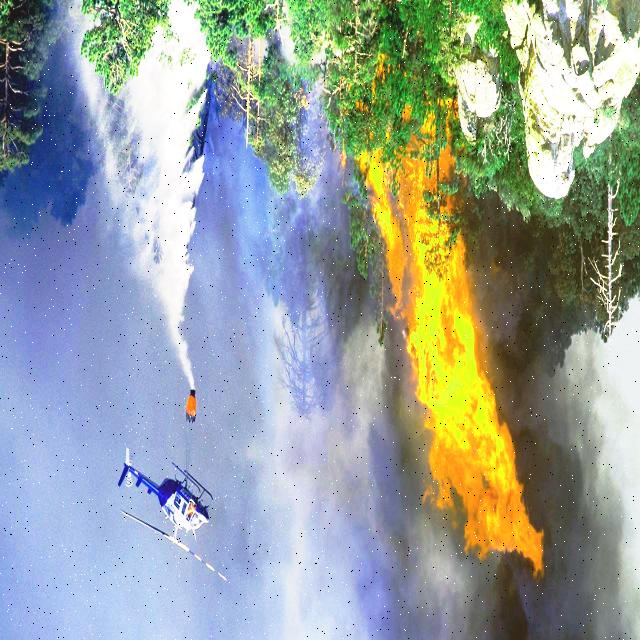api: (371, 157, 474, 348), (413, 349, 489, 493), (467, 409, 523, 567), (526, 517, 549, 585)
asap: (230, 164, 393, 559), (95, 37, 223, 371), (545, 346, 633, 640), (479, 185, 557, 393), (329, 569, 549, 640), (382, 498, 463, 602), (275, 1, 299, 83)
